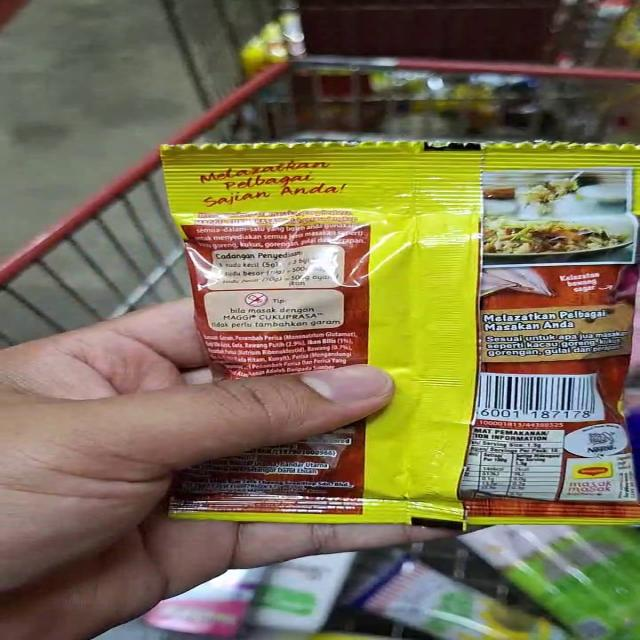Maggi: (146, 139, 640, 535)
